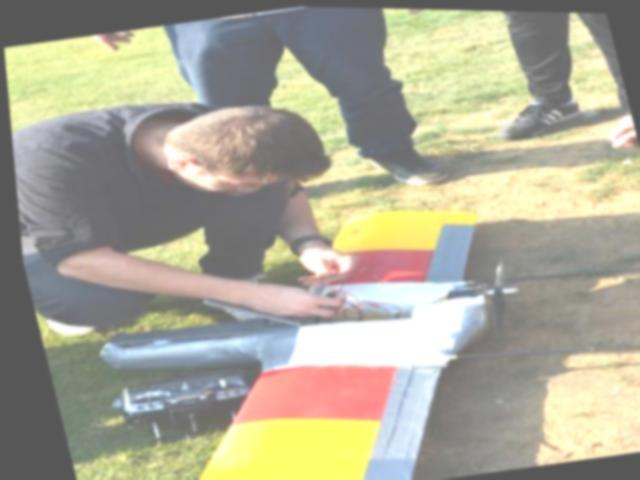iha: (56, 178, 545, 480)
